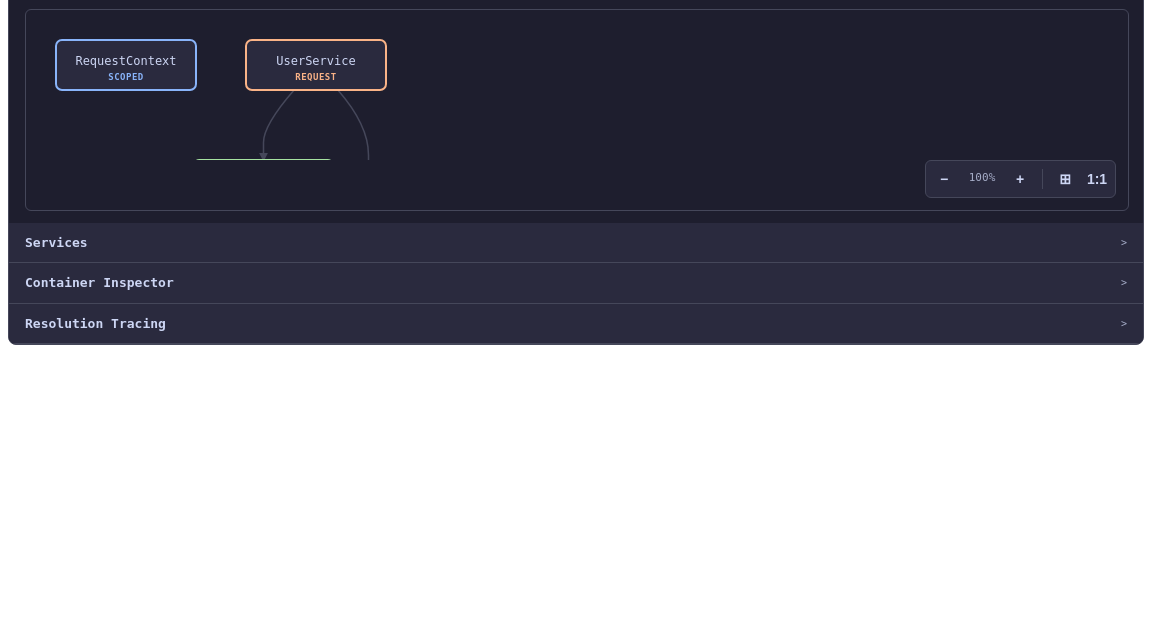
Scenario: ContainerInspector › lifetime filter toggles work (All/Singleton/Scoped/Request)
// Expand Container Inspector section
Click the button with test id "container-inspector-header".
click(99, 282)  # box [9,263,1143,304]
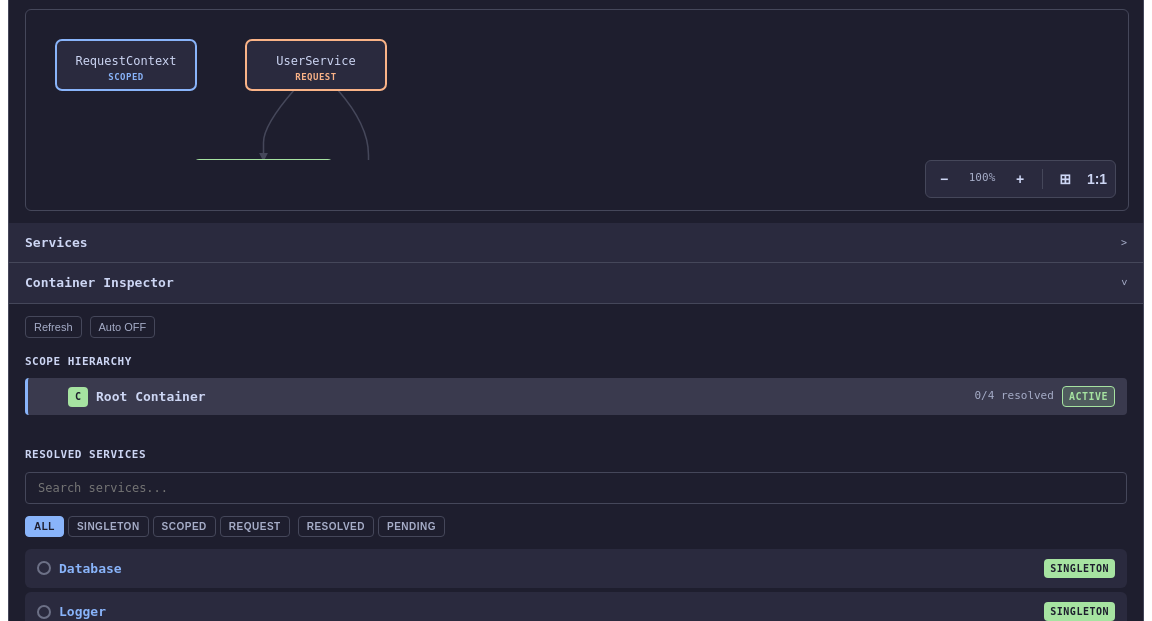
Check: the button with test id "service-filter-all" is shown, box [25,516,64,536]
Check: the button with test id "service-filter-singleton" is shown
Check: the button with test id "service-filter-scoped" is shown, box [153,516,216,536]
// Click singleton filter
Click the button with test id "service-filter-singleton".
click(108, 526)  # box [68,516,149,536]
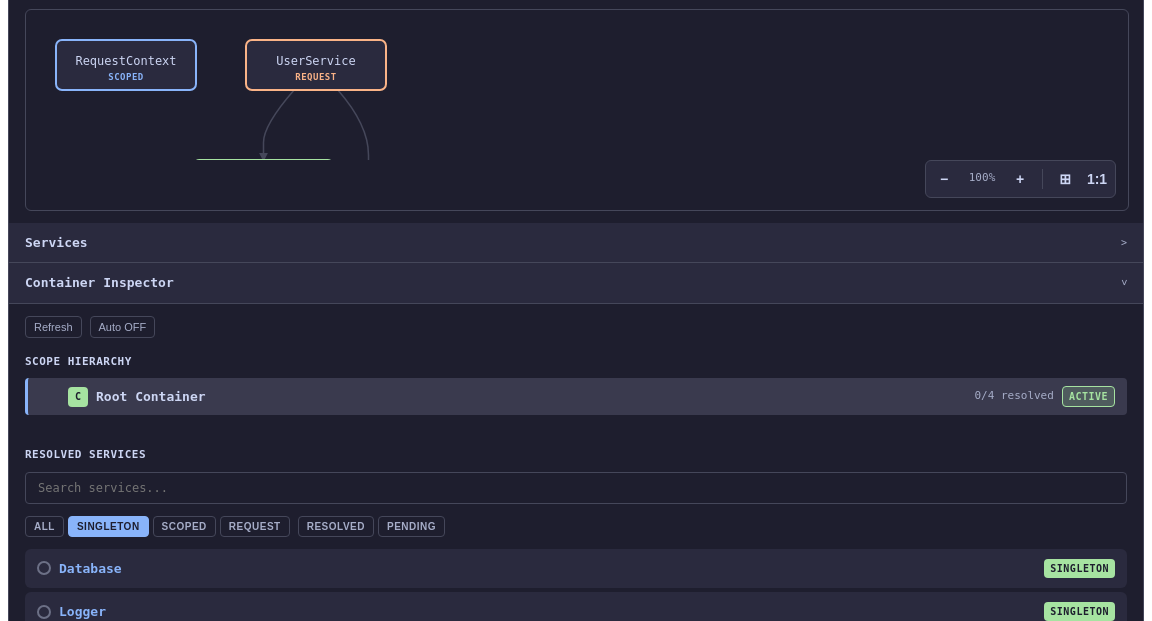
Check: the element with test id "service-item-Database" is shown, box [25,548,1127,588]
// Click "All" to reset
Click the button with test id "service-filter-all".
click(44, 526)  # box [25,516,64,536]
(page scrolled)
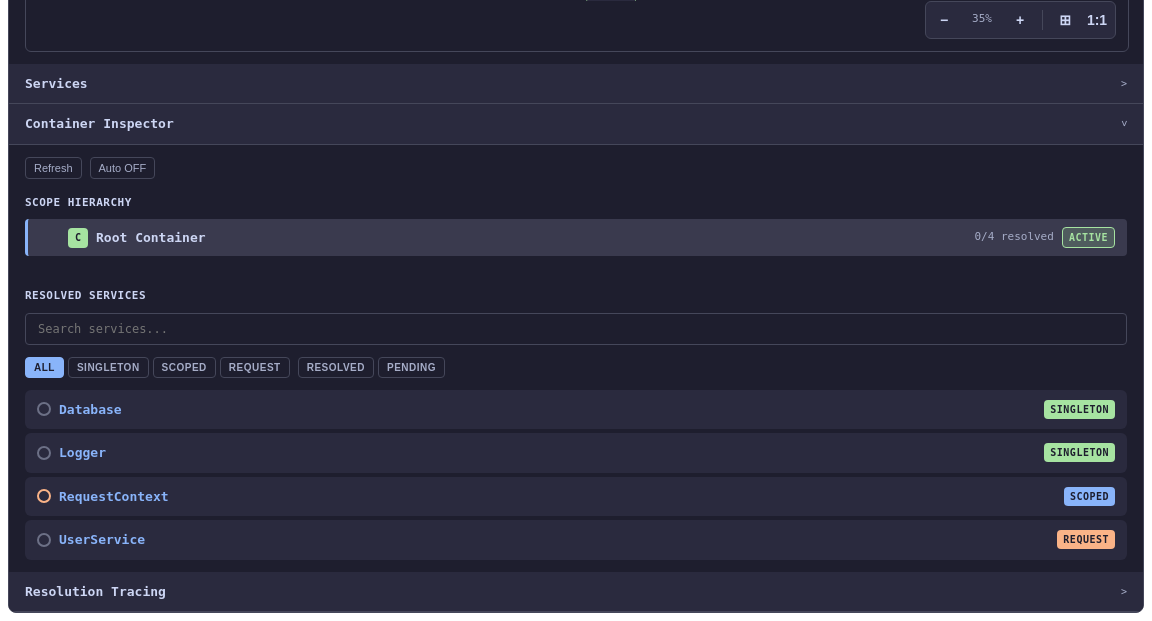
Check: the element with test id "service-item-Logger" is shown, box [25,433,1127,472]
Check: the element with test id "service-item-UserService" is shown, box [25,520,1127,560]
